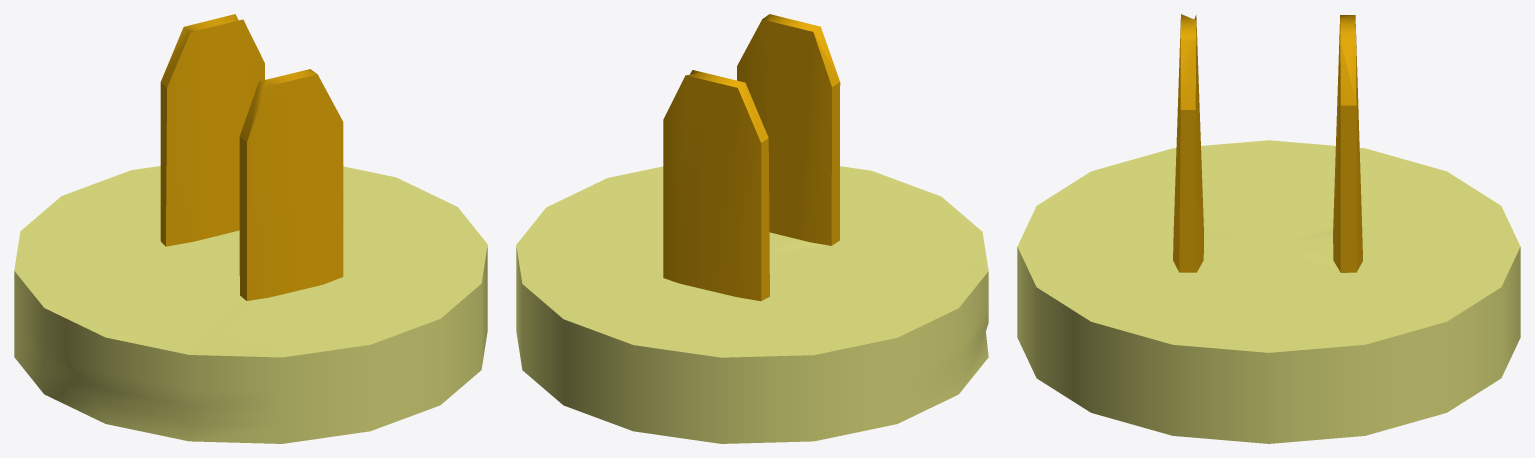
The model's file is plugoutput.fbx.
The picture shows the model from 3 angles, left to right: view 1: azimuth 30°, elevation 25°; view 2: azimuth 150°, elevation 25°; view 3: azimuth 270°, elevation 25°; orthographic projection. The views are drawn at different scales.
Parts seen in each view (by area): view 1: pCylinder1; view 2: pCylinder1; view 3: pCylinder1.
Boxes of the visible parts, x1=… form: pCylinder1: x1=14, y1=14, x2=487, y2=443; pCylinder1: x1=516, y1=14, x2=988, y2=443; pCylinder1: x1=1017, y1=14, x2=1520, y2=443.
Bounding box in the file's own units: 2.05 × 1.39 × 2.05.
